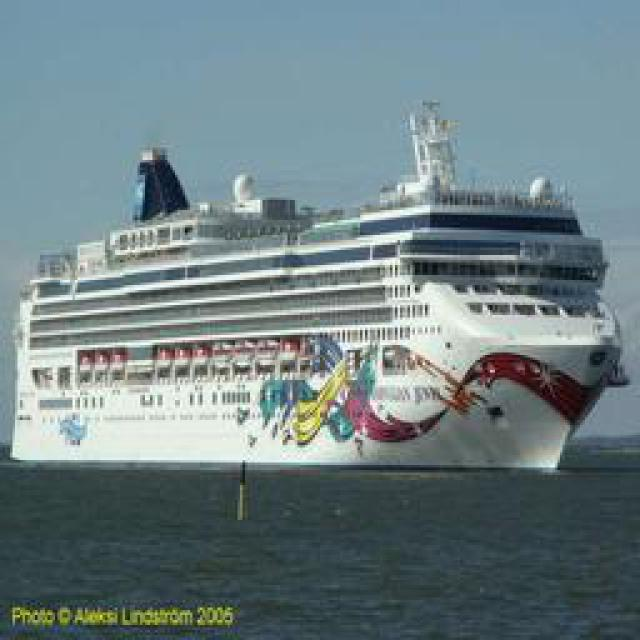Ship: (14, 111, 617, 481)
